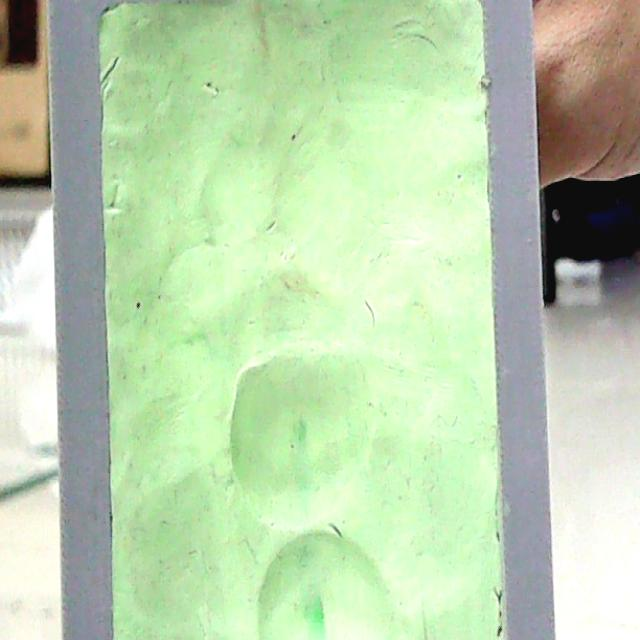block: (46, 0, 562, 637)
